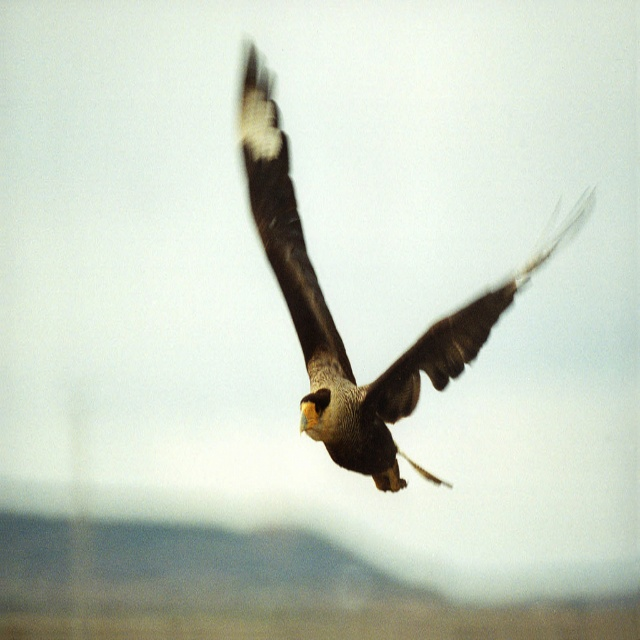Eagle: (237, 30, 595, 498)
